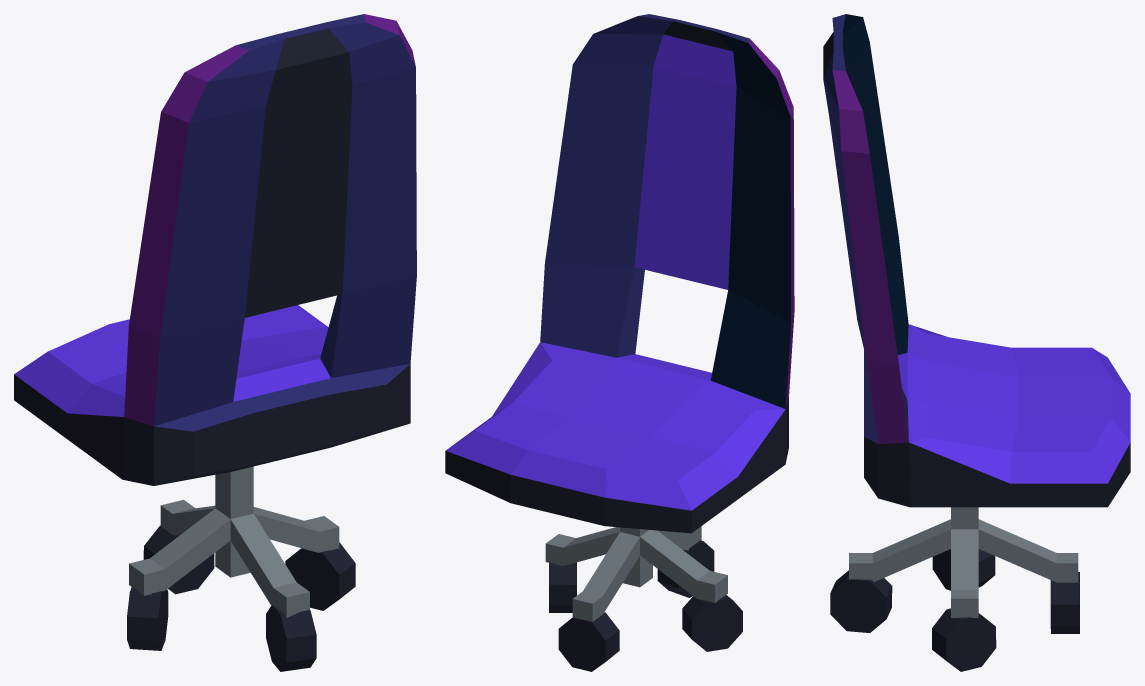
Rendered from RivenRoom_PooterChair.fbx.
3 renders of one model, left to right at view 1: azimuth 30°, elevation 25°; view 2: azimuth 150°, elevation 25°; view 3: azimuth 270°, elevation 25°, orthographic. The views are drawn at different scales.
Visible parts, largest first — view 1: Cube.121; view 2: Cube.121; view 3: Cube.121.
Part boxes in pixels (bbox=[...]): Cube.121: bbox=[14, 14, 416, 671]; Cube.121: bbox=[445, 14, 794, 671]; Cube.121: bbox=[823, 14, 1130, 671].
Size of the model in its own units: 51.2 by 111 by 52.72.
